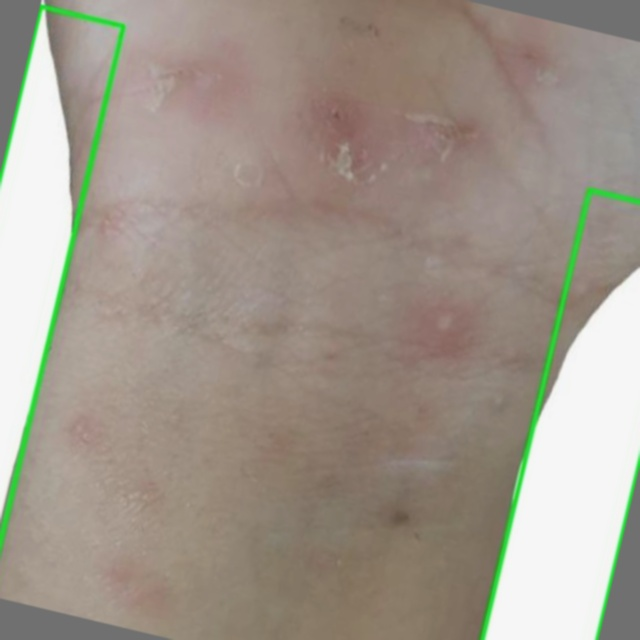Scabies: (481, 188, 639, 639), (0, 6, 123, 542)
